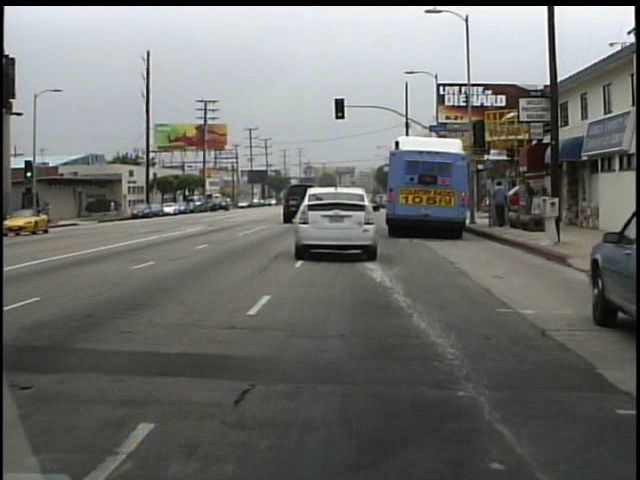person: (487, 179, 509, 231), (109, 195, 120, 217)
